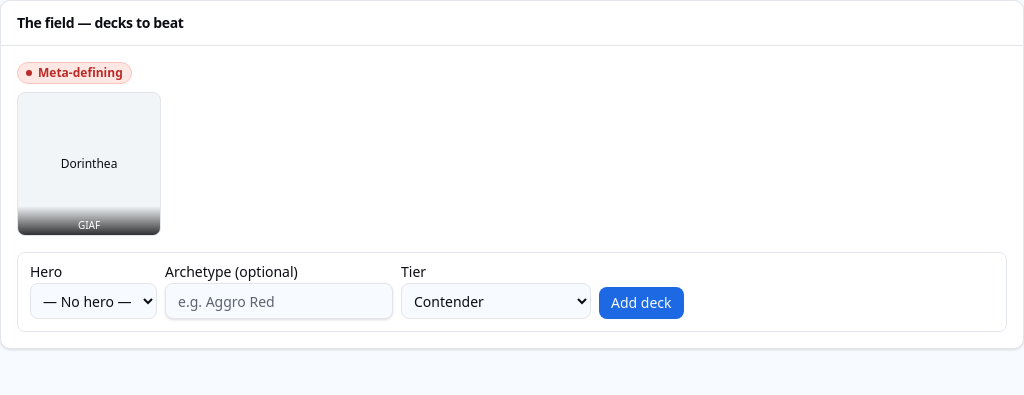
Test: MetaDeckEntryBuilder › does not block a second entry sharing a hero, and surfaces the server duplicate error
The width and height of the screenshot is (1024, 395).
Type "GIAF" into the field labelled "Archetype (optional)" at (279, 301), box [165,283,393,319]
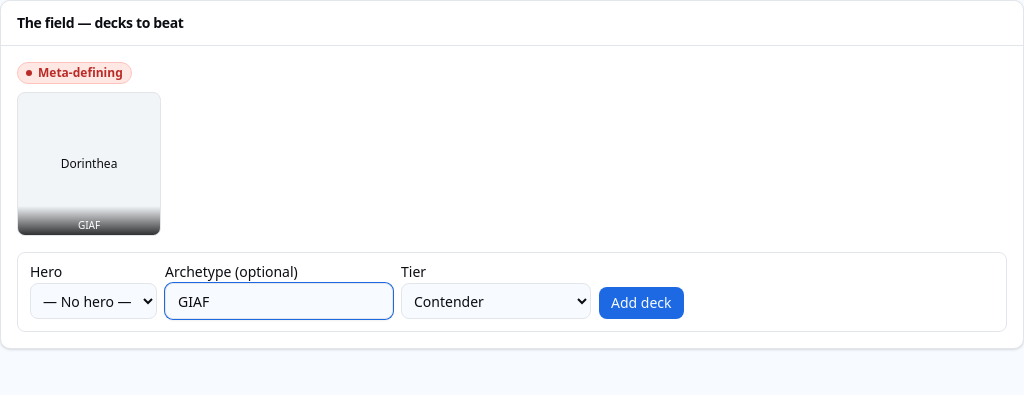
Select "Dorinthea" in the dropdown labelled "Hero" at (94, 301), box [30,283,157,319]
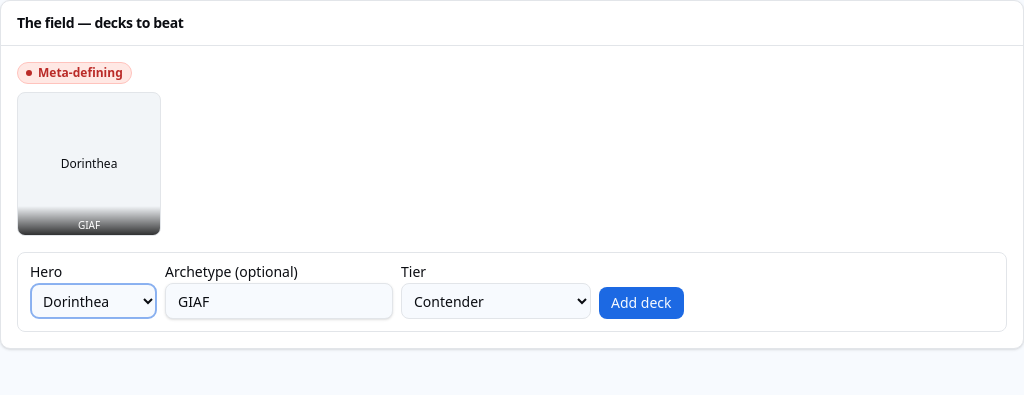
Click the button "Add deck" at (641, 303), box [599,287,684,319]
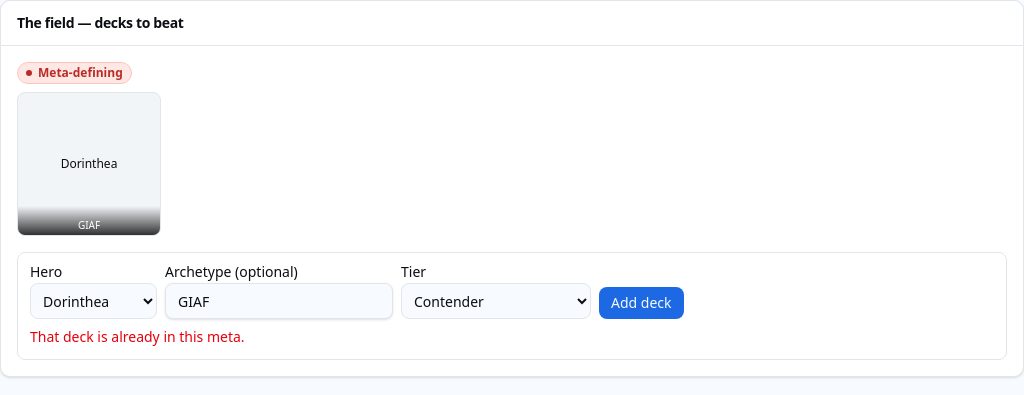
Check: the text "That deck is already in this meta." is shown, box [30,327,245,346]
